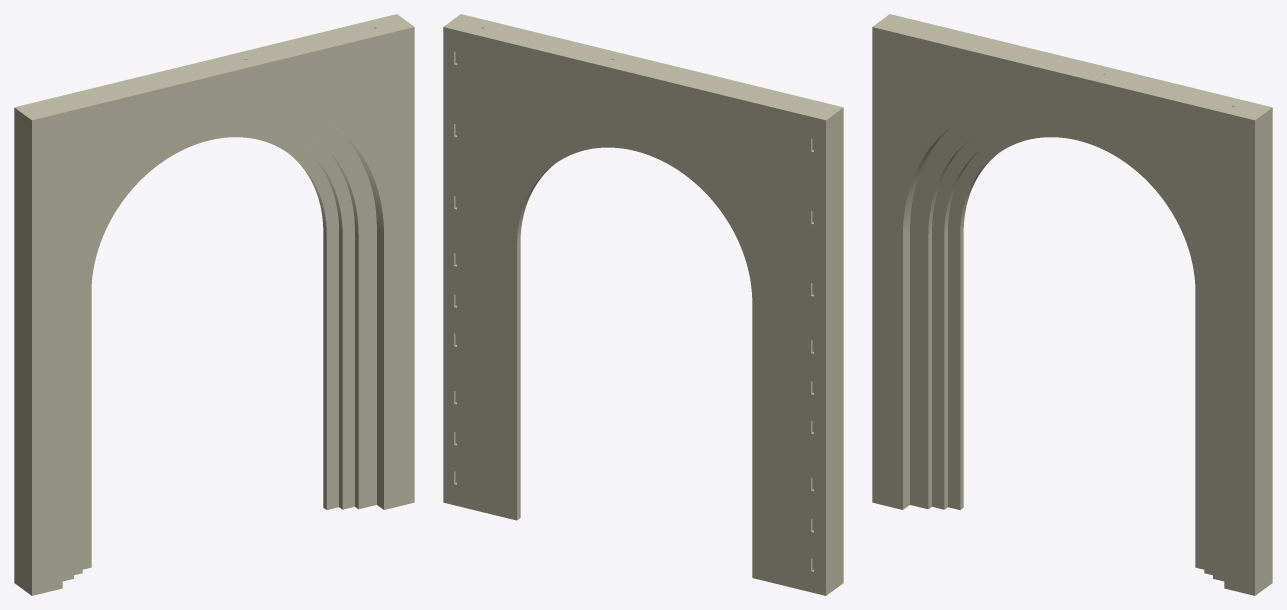
File: arched-door.glb
3 views of the same model, side by side, from view 1: azimuth 30°, elevation 25°; view 2: azimuth 150°, elevation 25°; view 3: azimuth 330°, elevation 25° (orthographic).
Visible parts, largest first — view 1: Object_2; view 2: Object_2; view 3: Object_2.
Boxes of the visible parts, x1,y1,x2,y2 form: Object_2: (14,14,414,595); Object_2: (443,14,843,595); Object_2: (872,14,1272,595).
Bounding box in the file's own units: 0.2573 × 0.3055 × 0.0207.
